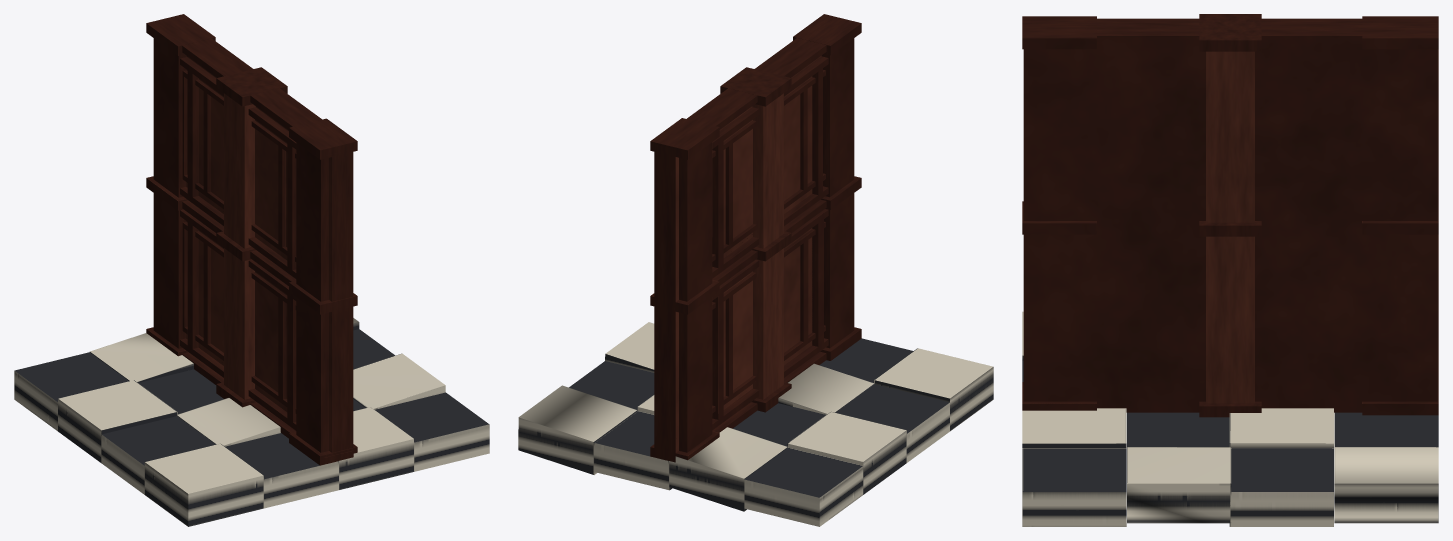
The model's file is Walls&Floor.glb.
3 views of the same model, side by side, from view 1: azimuth 30°, elevation 25°; view 2: azimuth 150°, elevation 25°; view 3: azimuth 270°, elevation 25° (orthographic). The views are drawn at different scales.
Parts seen in each view (by area): view 1: floor_V5_TEMP, leftWallSingle_V5_TEMP, rightWallDouble_V5_TEMP, rightWallSingle_V5_TEMP, uniColumn_V5_TEMP, leftWallDouble_V5_TEMP; view 2: floor_V5_TEMP, rightWallDouble_V5_TEMP, rightWallSingle_V5_TEMP, leftWallSingle_V5_TEMP, leftWallDouble_V5_TEMP, uniColumn_V5_TEMP; view 3: rightWallDouble_V5_TEMP, leftWallDouble_V5_TEMP, floor_V5_TEMP, uniColumn_V5_TEMP, rightWallSingle_V5_TEMP, leftWallSingle_V5_TEMP.
Part boxes in pixels (box(x1,y1,x2,y2)): floor_V5_TEMP: box(14, 318, 489, 526); leftWallSingle_V5_TEMP: box(146, 14, 353, 464); rightWallDouble_V5_TEMP: box(180, 39, 357, 455); rightWallSingle_V5_TEMP: box(180, 43, 357, 465); uniColumn_V5_TEMP: box(216, 67, 287, 407); leftWallDouble_V5_TEMP: box(146, 14, 321, 432); floor_V5_TEMP: box(518, 322, 993, 526); rightWallDouble_V5_TEMP: box(654, 14, 861, 462); rightWallSingle_V5_TEMP: box(675, 14, 861, 452); leftWallSingle_V5_TEMP: box(650, 38, 828, 459); leftWallDouble_V5_TEMP: box(650, 38, 828, 460); uniColumn_V5_TEMP: box(720, 67, 791, 412); rightWallDouble_V5_TEMP: box(1022, 16, 1438, 412); leftWallDouble_V5_TEMP: box(1023, 16, 1438, 415); floor_V5_TEMP: box(1022, 311, 1438, 526); uniColumn_V5_TEMP: box(1199, 14, 1261, 417); rightWallSingle_V5_TEMP: box(1022, 16, 1355, 410); leftWallSingle_V5_TEMP: box(1097, 16, 1438, 402).
Size of what is drawn, in the model's own units: 4 by 4.41 by 4.
Materials: 6 (6 with a texture image).
